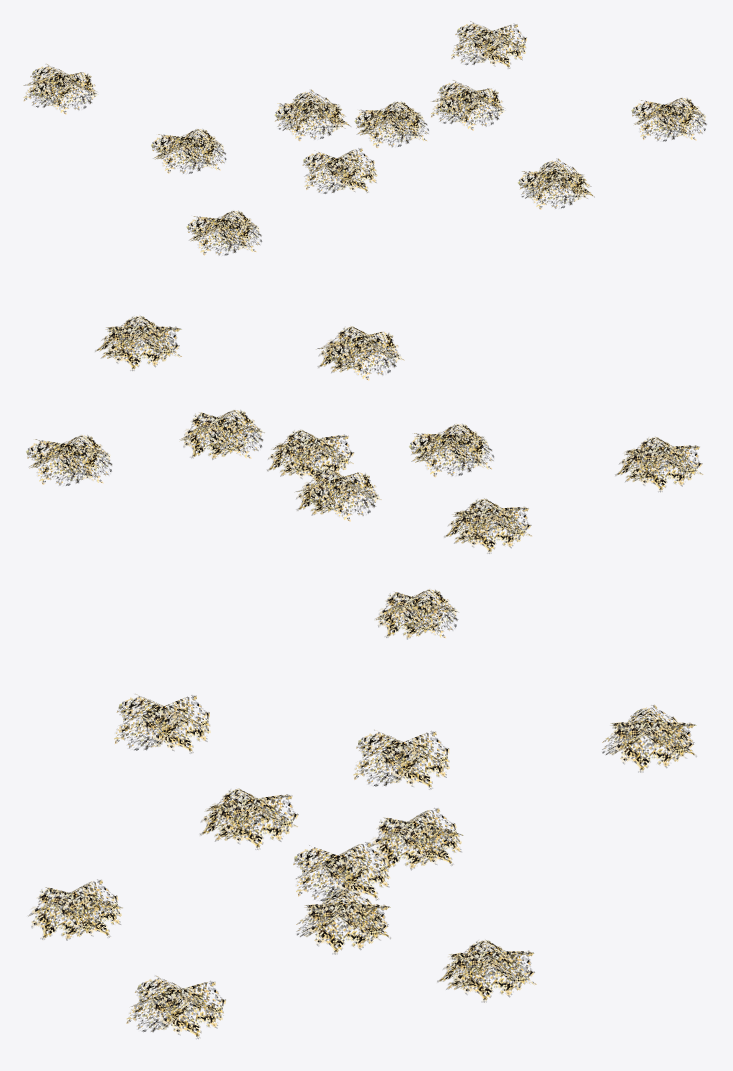
The model's file is Environment - Vegetation - Bush 18 - PTBush18.glb.
The picture shows the model from 3 angles, top to bottom: view 1: azimuth 30°, elevation 25°; view 2: azimuth 150°, elevation 25°; view 3: azimuth 270°, elevation 25°; orthographic projection. The views are drawn at different scales.
Visible parts, largest first — view 1: PTBUSH18; view 2: PTBUSH18; view 3: PTBUSH18.
Part boxes in pixels (box(x1,y1,x2,y2)): PTBUSH18: box(23, 21, 706, 255); PTBUSH18: box(26, 315, 703, 639); PTBUSH18: box(28, 693, 697, 1039).
Size of the model in its own units: 94.15 by 5.48 by 84.65.
Materials: 1 (1 with a texture image).
